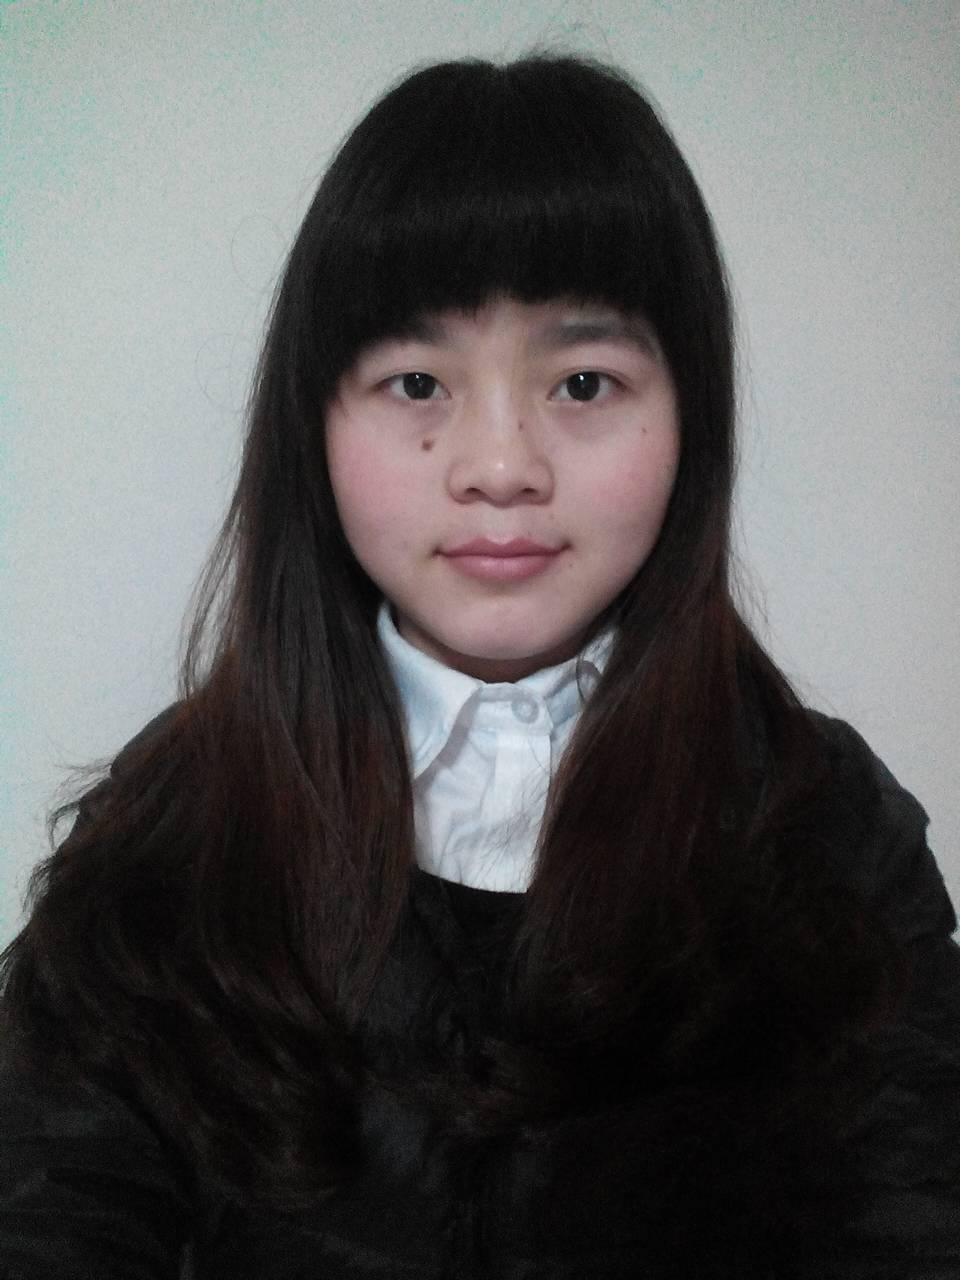unmask: (340, 264, 677, 640)
